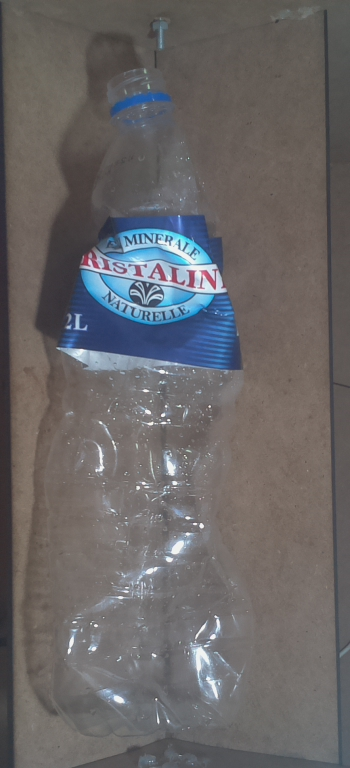Bouteille_2L: (42, 61, 266, 743)
